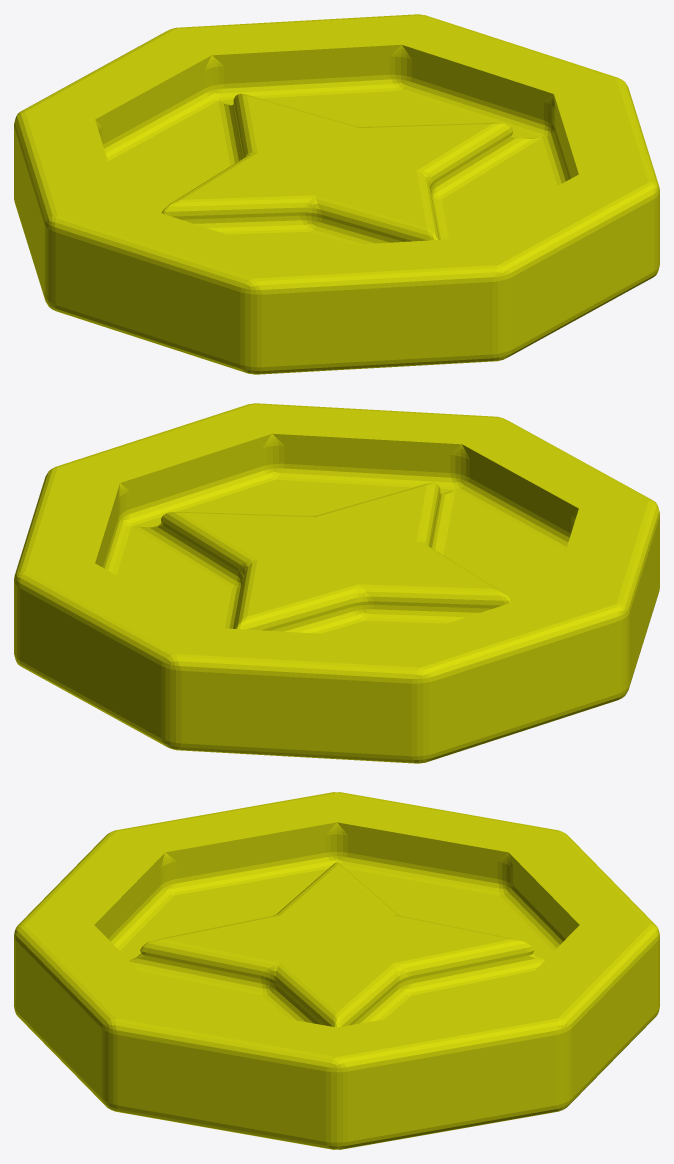
Rendered from Coin.fbx.
The picture shows the model from 3 angles, top to bottom: view 1: azimuth 30°, elevation 25°; view 2: azimuth 150°, elevation 25°; view 3: azimuth 270°, elevation 25°; orthographic projection. The views are drawn at different scales.
Parts seen in each view (by area): view 1: Cylinder; view 2: Cylinder; view 3: Cylinder.
Boxes of the visible parts, x1,y1,x2,y2 form: Cylinder: (14,14,659,374); Cylinder: (14,403,659,763); Cylinder: (14,792,659,1149).
Size of the model in its own units: 198 by 31.19 by 198.
